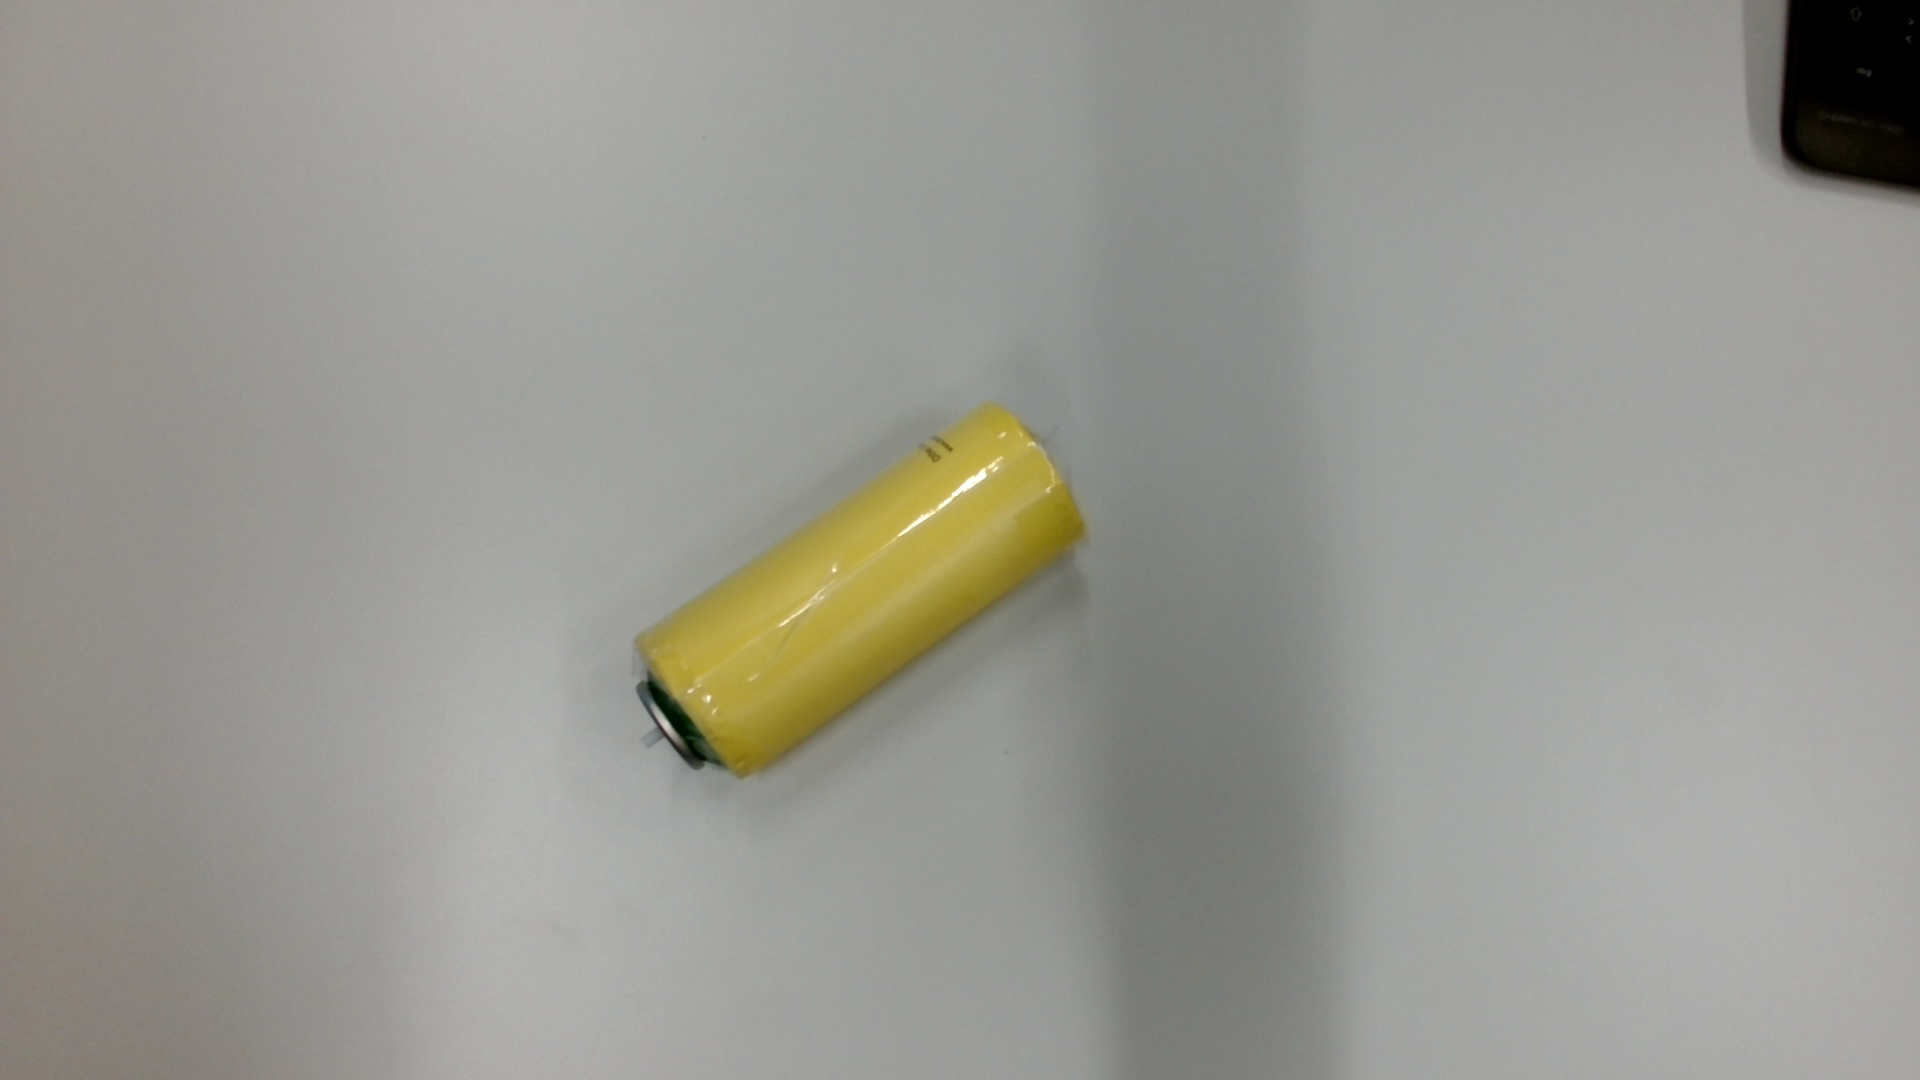Cylinder: (618, 385, 1096, 803)
